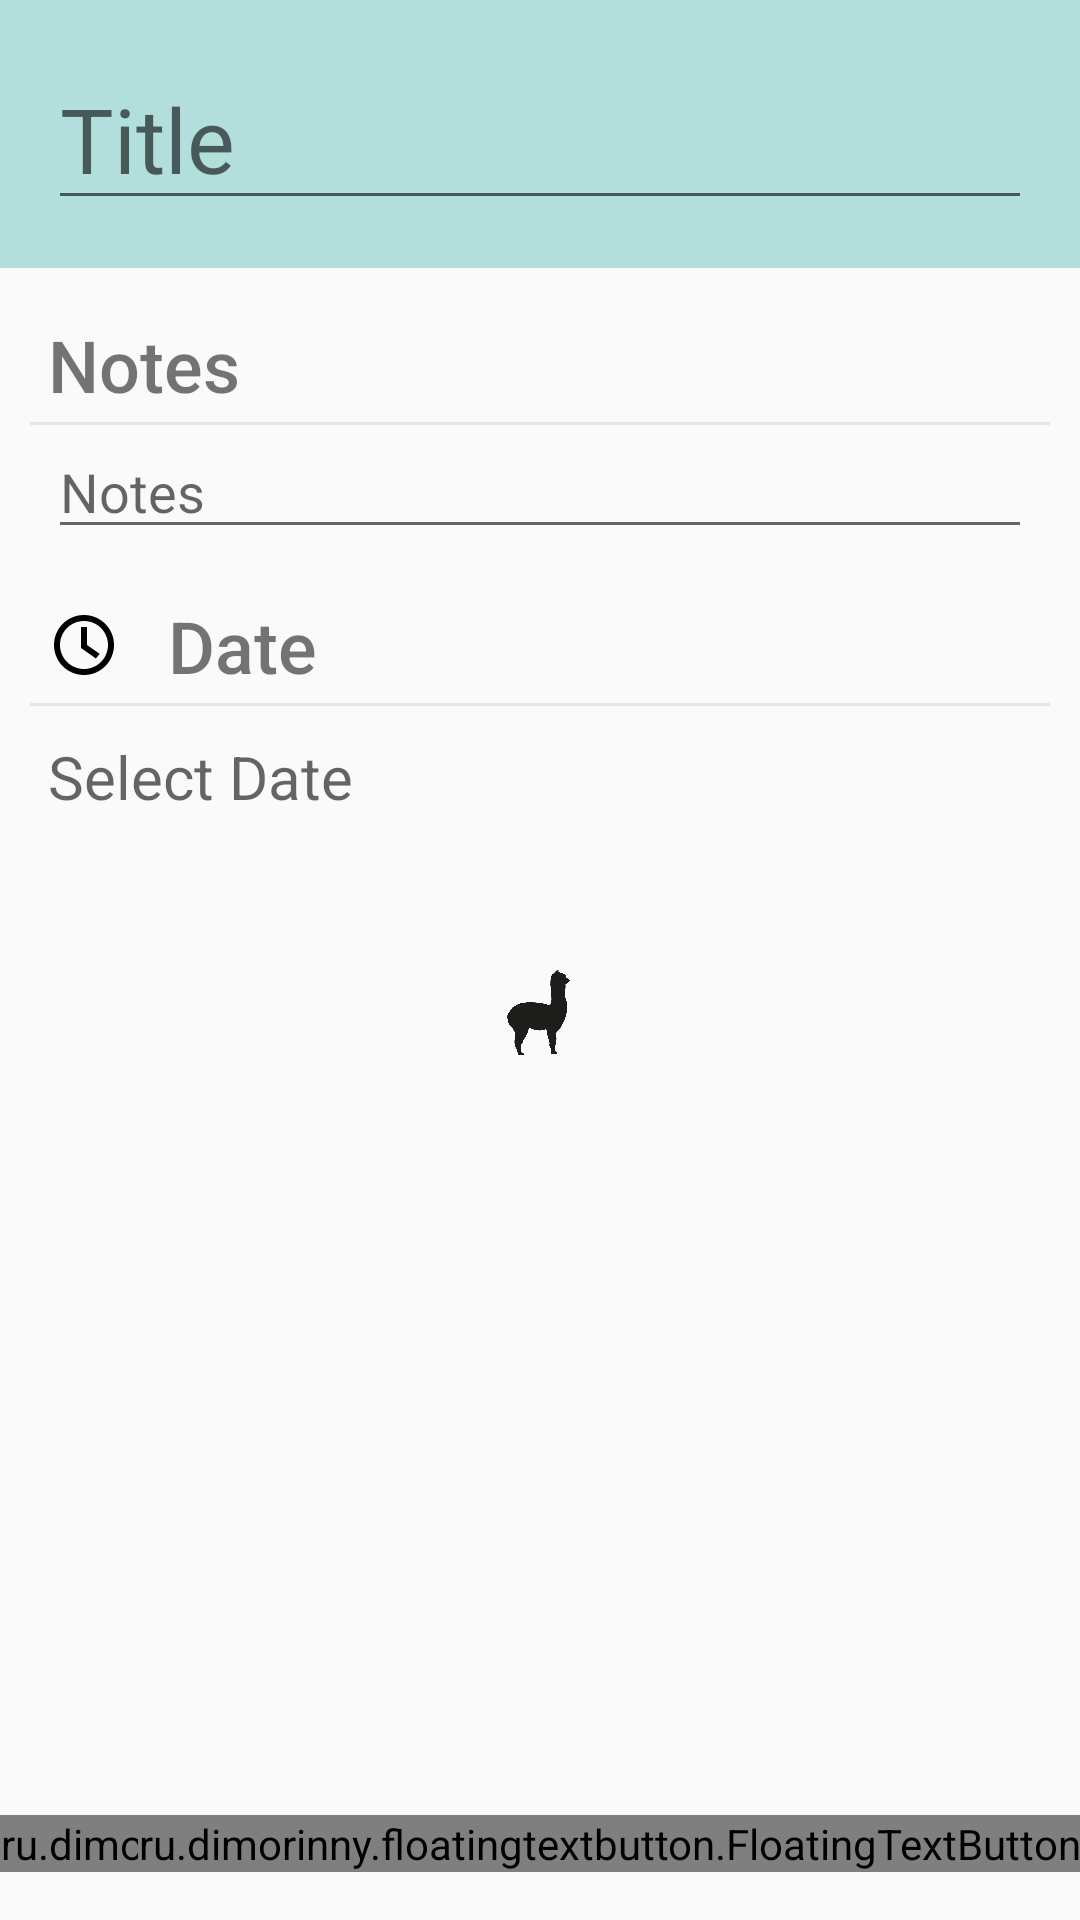

Locate icon controls on the screen. Image size 1080px x 1920px, boxes as (x1, y1, x2, y2).
Alpaca Icon: (507, 970, 570, 1055)
